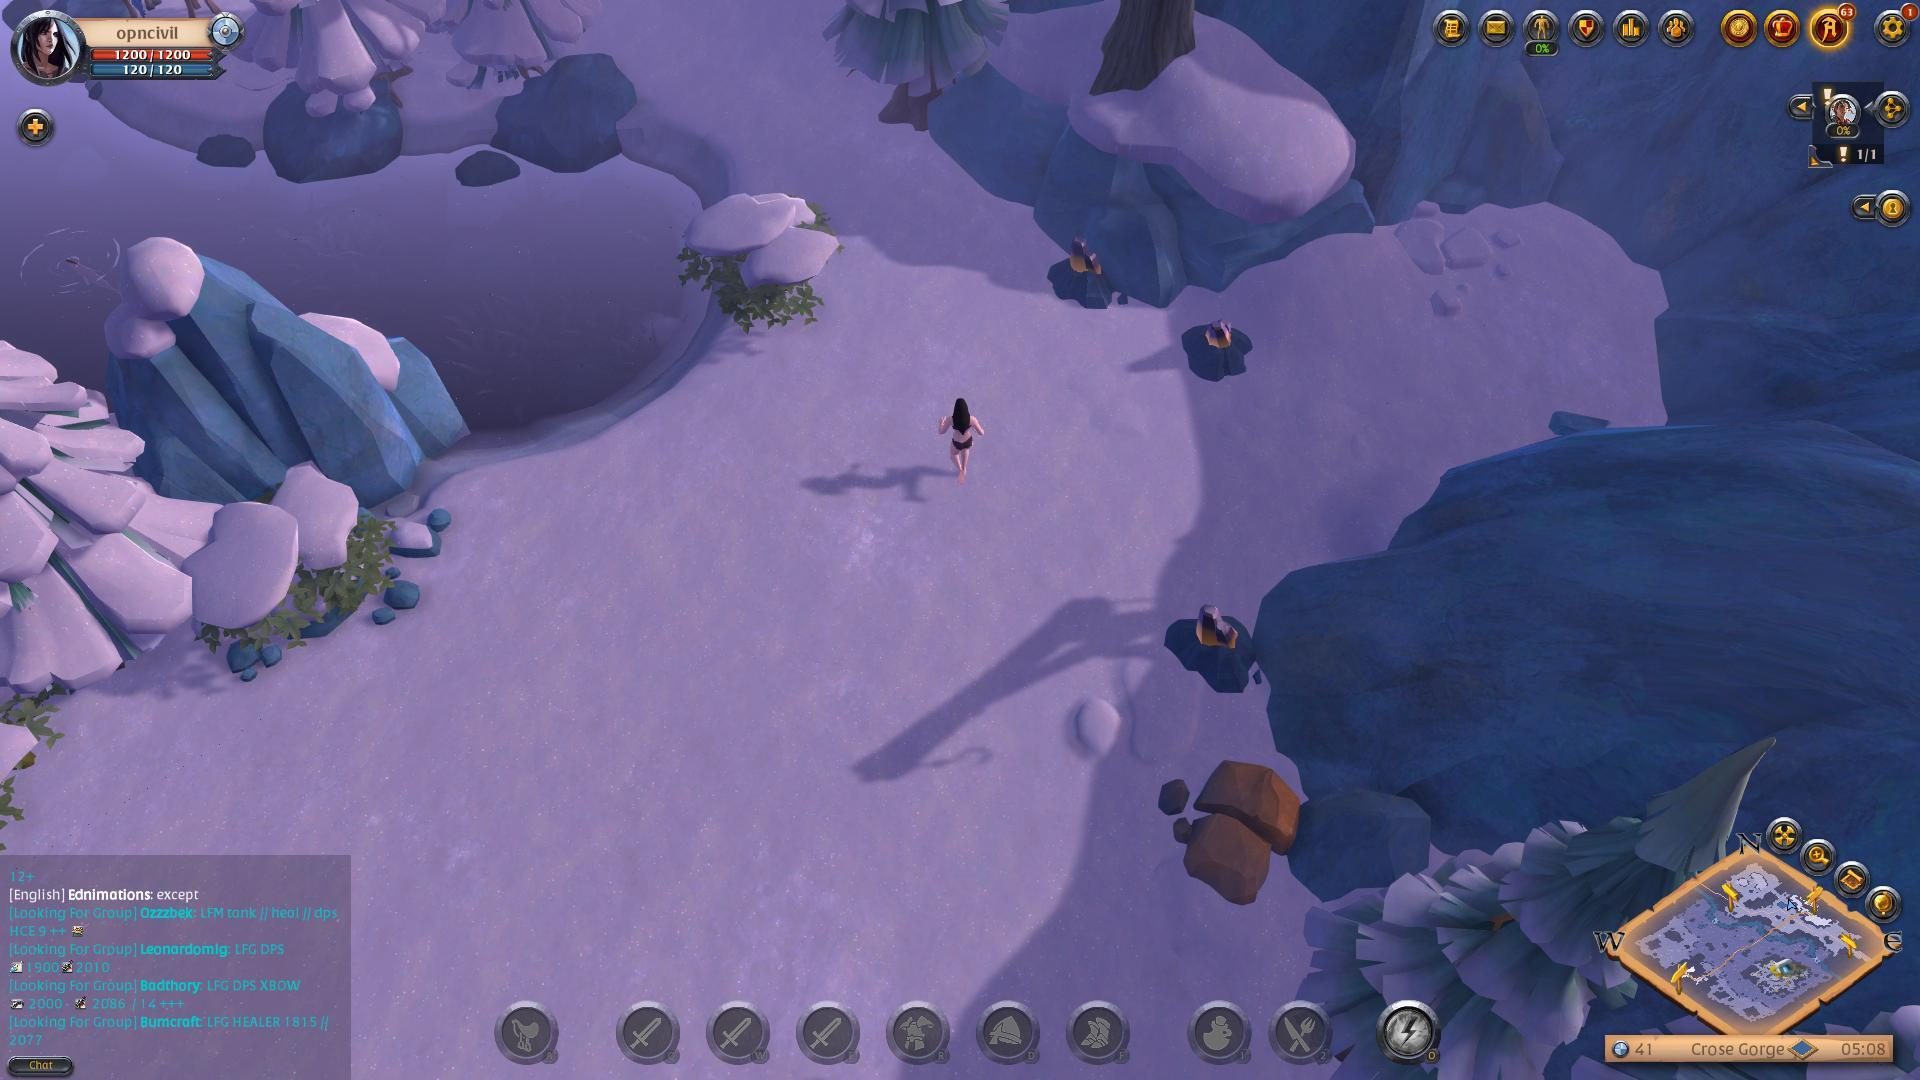copper_ore: (1153, 600, 1263, 682), (1022, 241, 1146, 313), (1160, 313, 1275, 380)
limestone: (1156, 766, 1340, 898)
